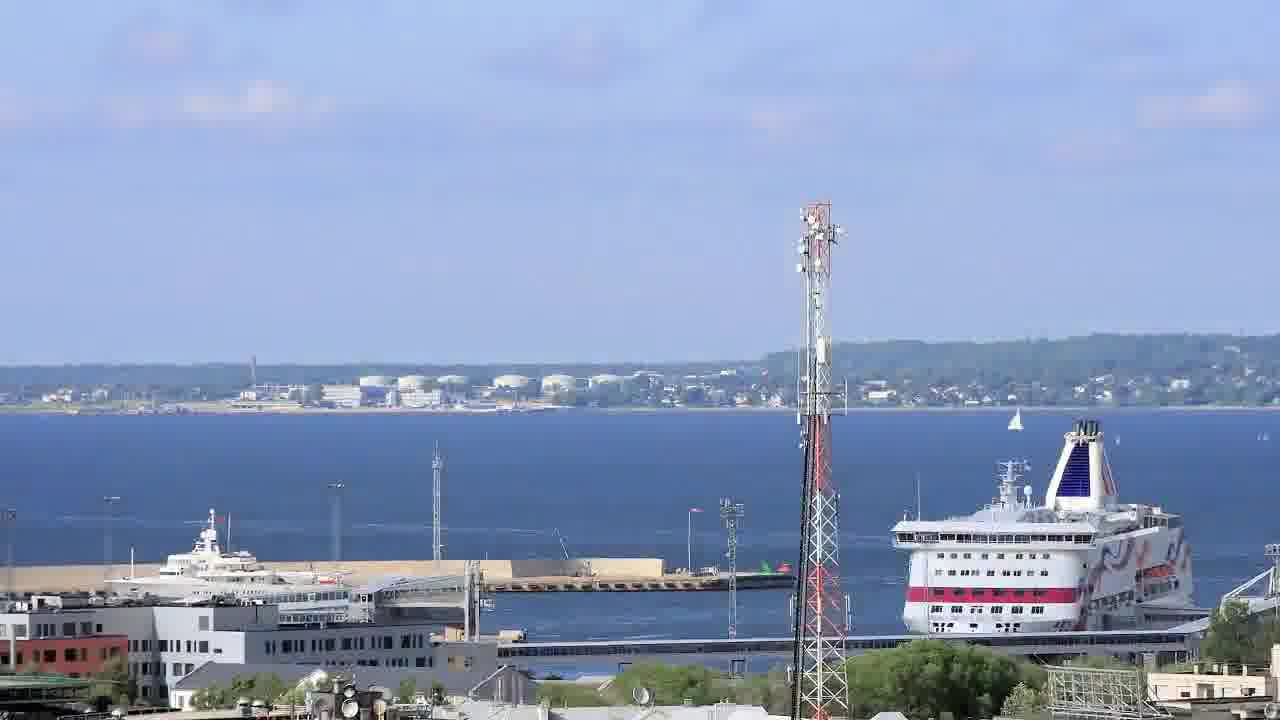type-2: (998, 388, 1047, 437)
type-3: (868, 415, 1225, 638), (84, 511, 353, 609)
